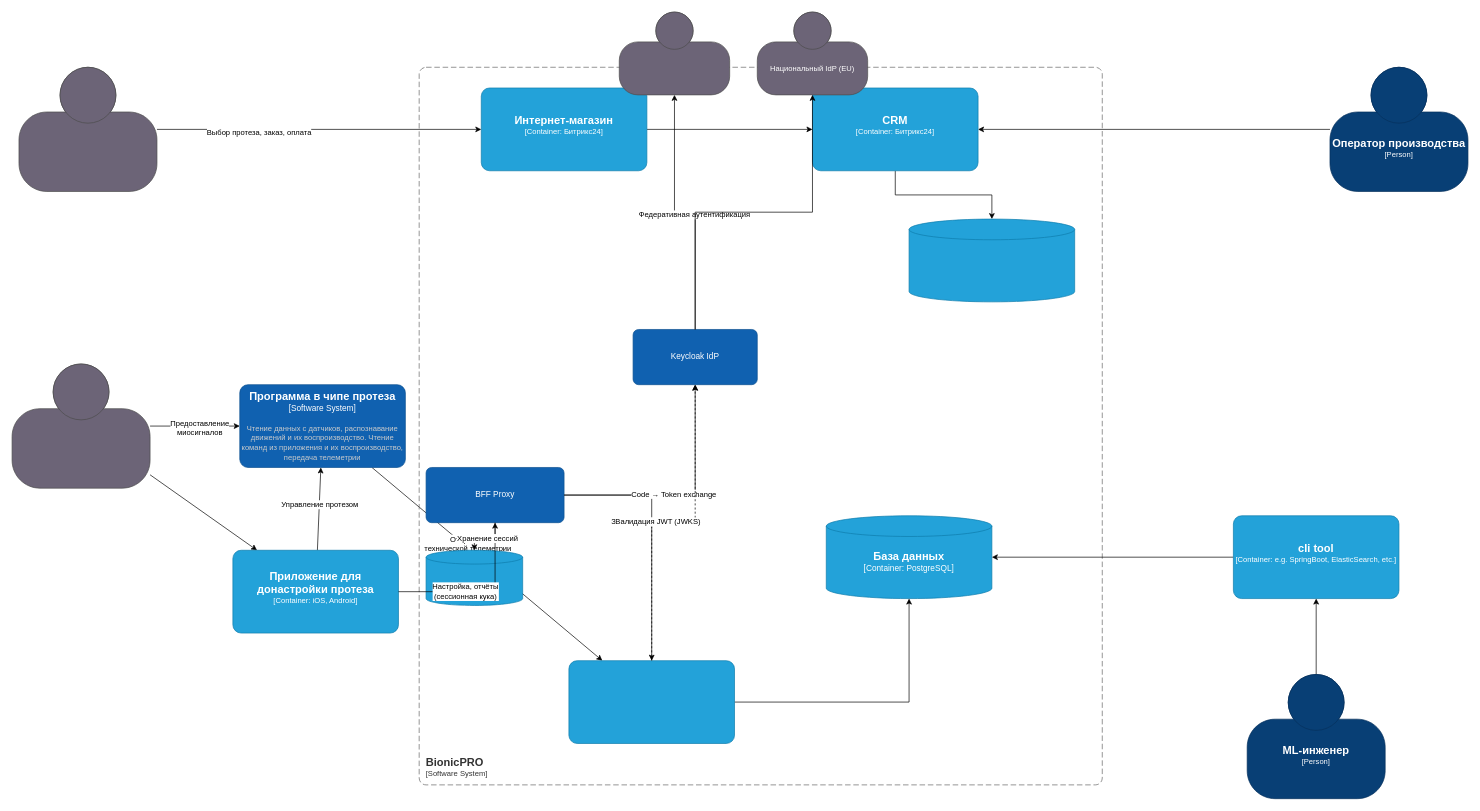
The diagram is 1480 pixels wide and 811 high, and some of its shapes have lost their labels. The centre of each missing label's shape, as x and y in pixels:
API [Container: e.g. SpringBoot, ElasticSearch, etc.]: the point at 651,701
CRM DB [Container: e.g. Oracle Database 12]: the point at 991,260
Redis Session Store: the point at 474,577
Национальный IdP (Россия): the point at 674,53
Пилот протеза [Person] С этого человека считываются данные: the point at 80,425
Покупатель протеза [Person]: the point at 87,129
